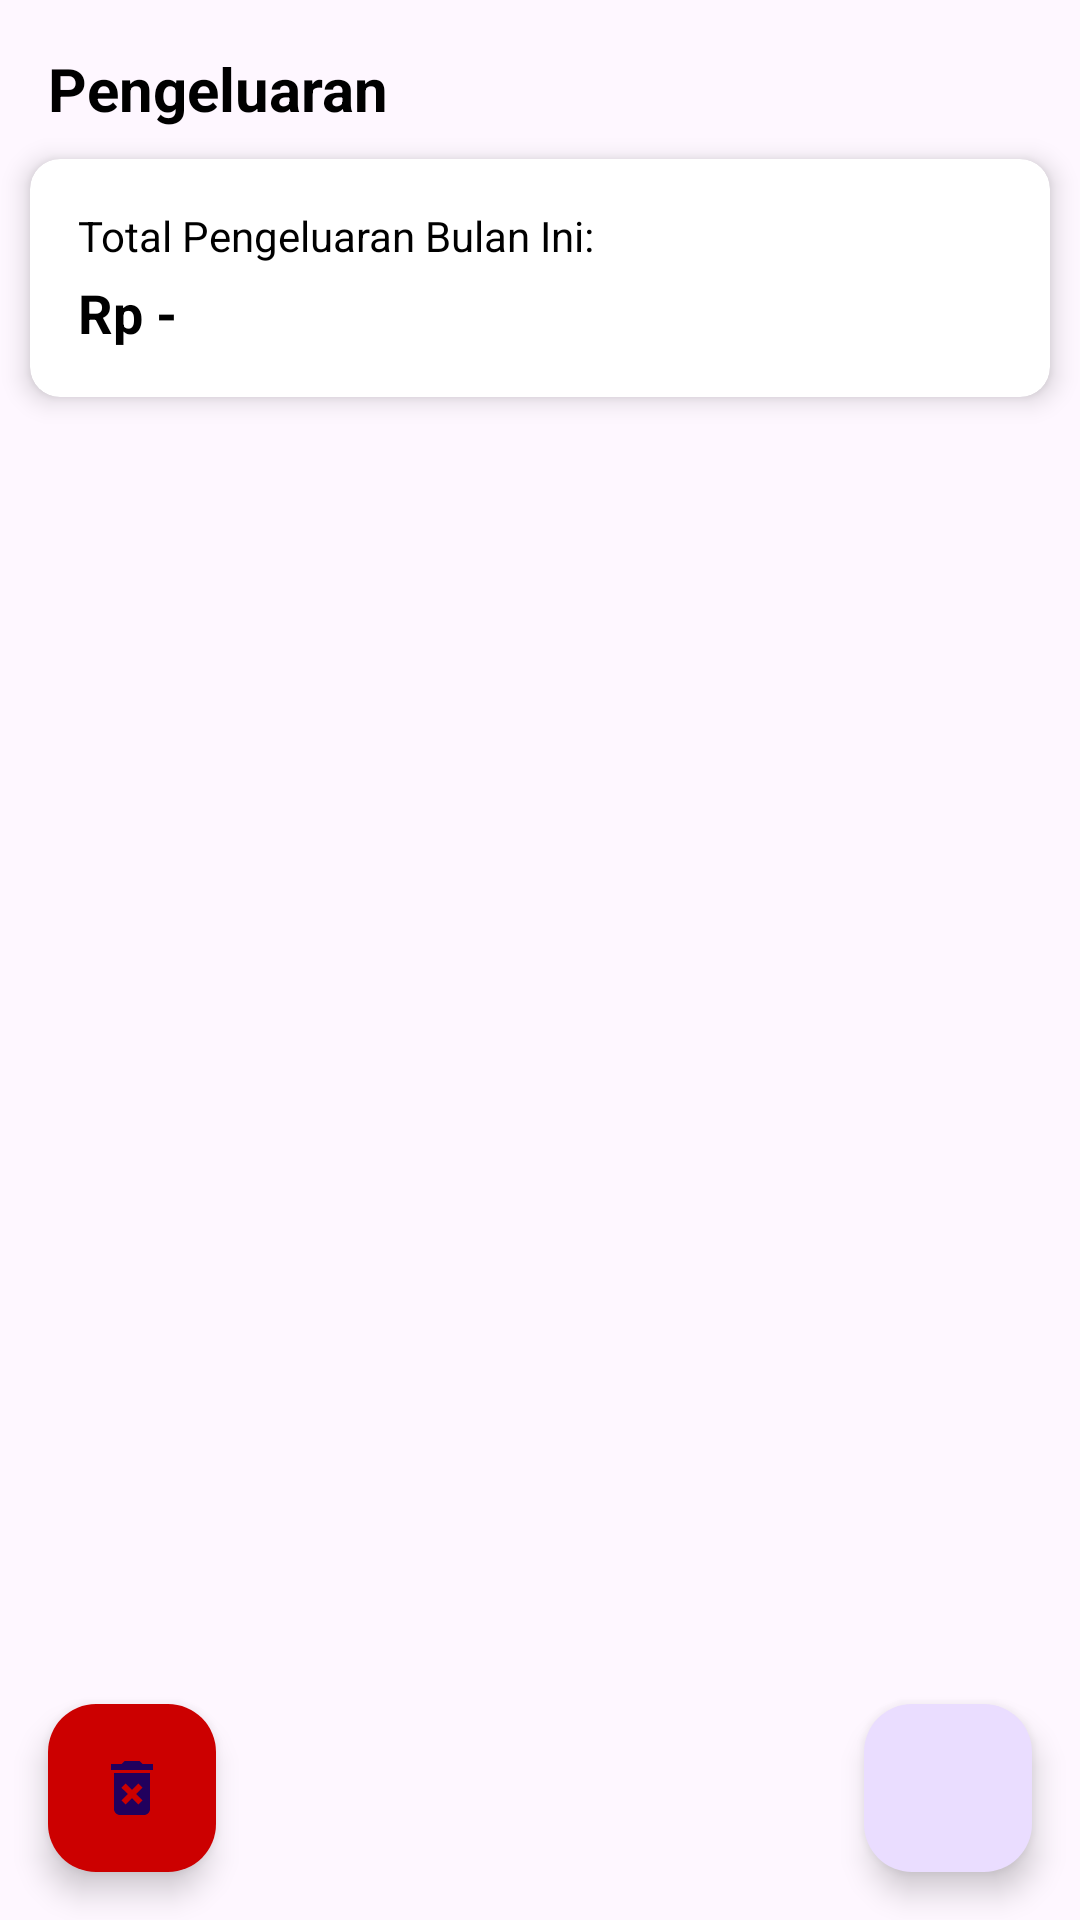

Icon click points for this 1080 × 1920 phone screenshot, format point (x, y):
delete: point (132, 1788)
